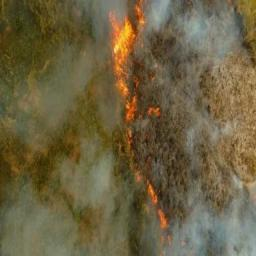Low smoke: (0, 0, 256, 256)
Medium fire: (100, 1, 191, 240)
